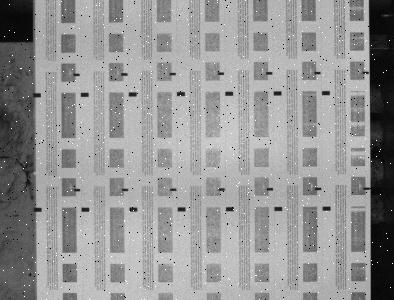qblock: (34, 207, 42, 212), (129, 207, 138, 211), (226, 91, 233, 96), (82, 207, 89, 212), (33, 93, 41, 97), (81, 93, 89, 97), (322, 91, 330, 95), (129, 92, 137, 96), (177, 92, 185, 96), (274, 91, 282, 95), (226, 207, 234, 211), (323, 206, 331, 210), (275, 207, 283, 211), (178, 207, 186, 211)
smallqblock: (267, 187, 274, 191), (170, 72, 176, 76), (73, 73, 80, 76), (121, 73, 128, 76), (218, 72, 225, 75), (266, 72, 273, 75), (74, 188, 81, 191), (363, 71, 370, 74), (170, 188, 177, 191), (315, 187, 322, 190), (315, 71, 321, 74), (122, 188, 128, 191), (219, 188, 225, 191), (364, 187, 370, 190)
